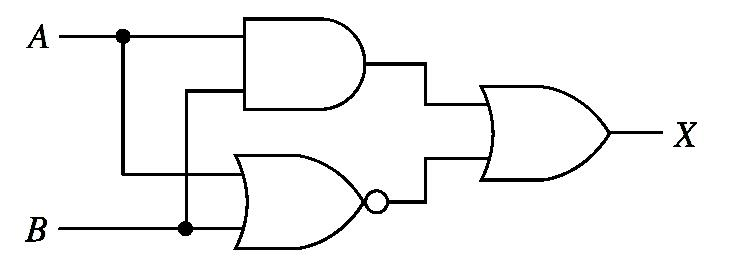and: (236, 10, 372, 116)
nor: (227, 147, 392, 255)
or: (472, 78, 619, 188)
